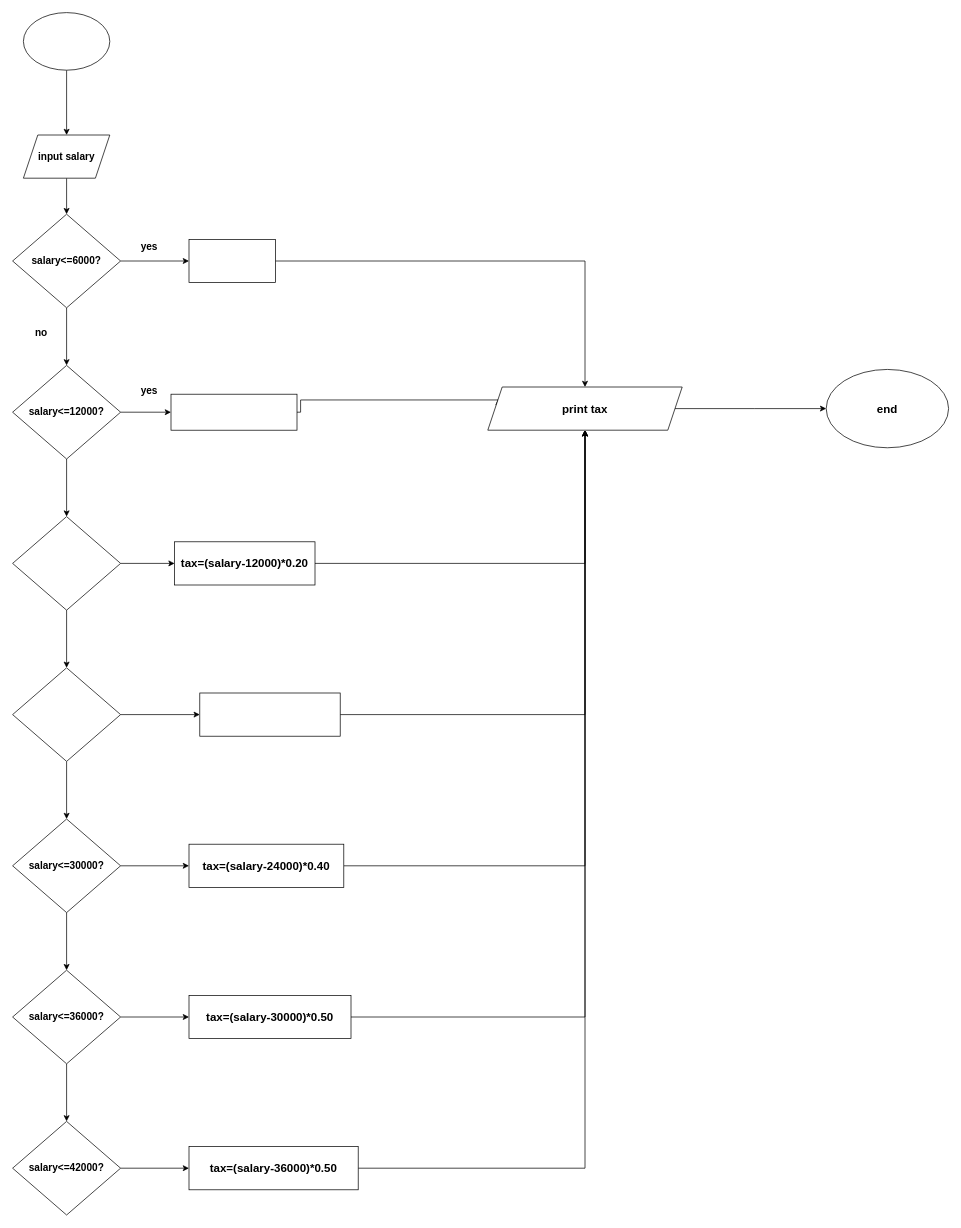
Some shapes in this 961 by 1228 pixel diagram are drawn without their labels. The box of each missing label's shape, as (x1, y1, x2, y2) in pixels:
salary<= 18000?: (12, 516, 121, 610)
salary<= 24000?: (12, 667, 121, 761)
start: (23, 12, 110, 70)
tax=(salary-18000)*0.30: (199, 692, 340, 736)
tax=(salary-6000)*0.10: (170, 393, 297, 430)
tax=0: (188, 239, 275, 283)
